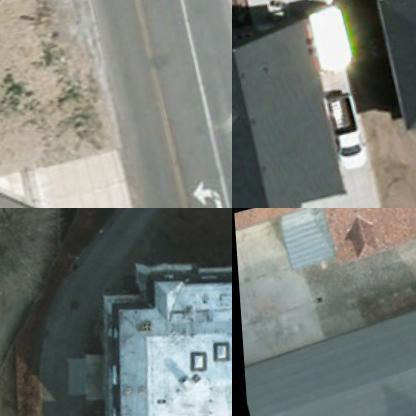camping car: (300, 0, 358, 89)
pickup: (317, 83, 367, 182)
